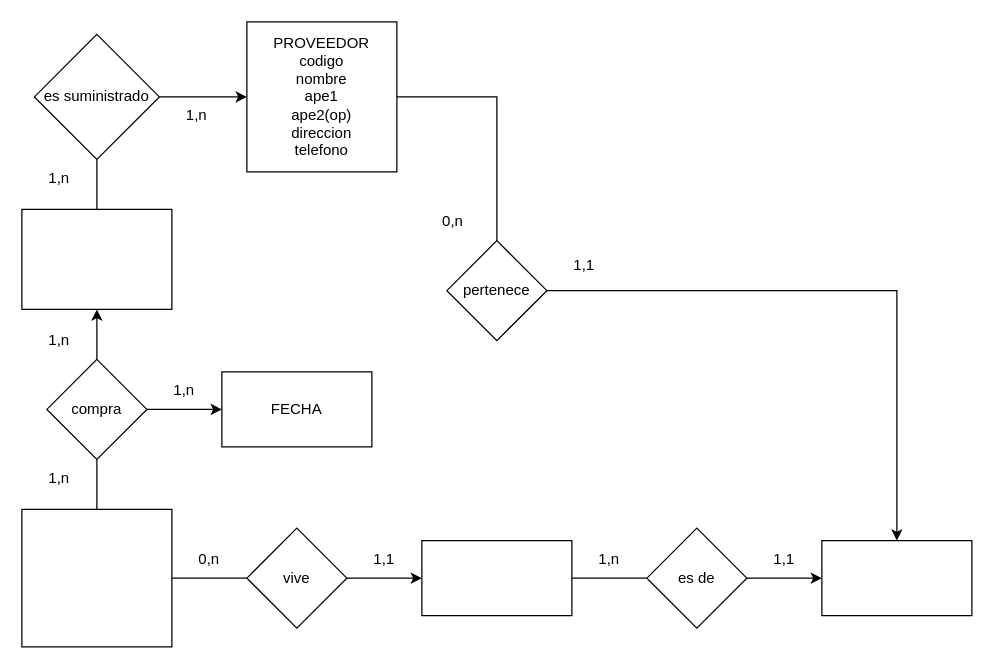
Image size: 994x669. Some labels were removed from this diagram. Each missing label, with the centre of its shape:
CIUDAD: point (496, 577)
CLIENTE codigo nombre ape1 ape2(op) direccion telefono: point (96, 577)
PRODUCTO codigo descripcion precio stock: point (96, 258)
PROVINCIA: point (896, 577)
